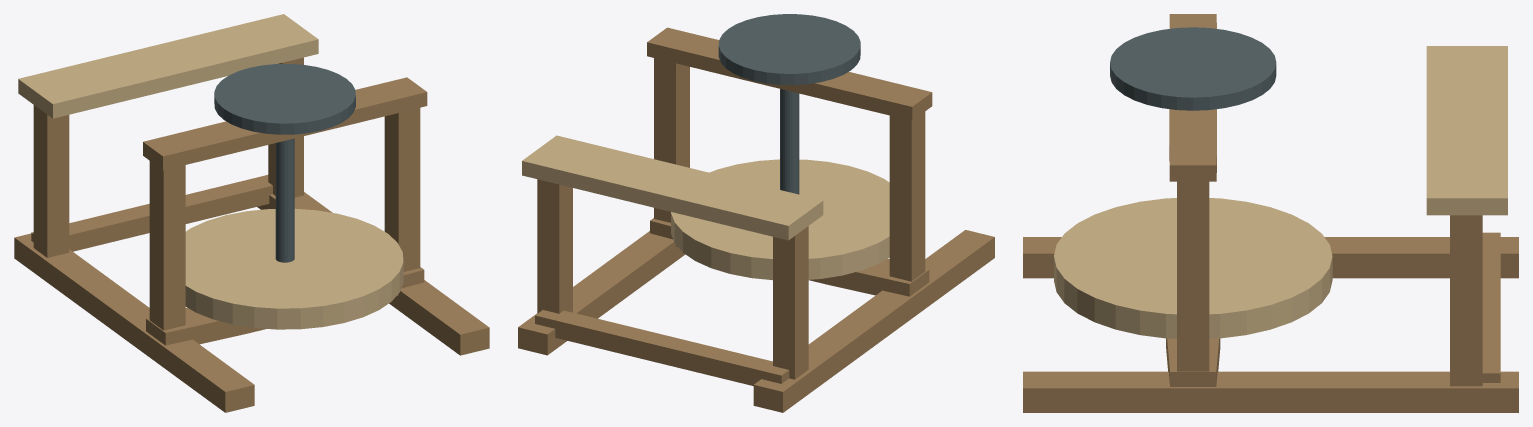
3 renders of one model, left to right at view 1: azimuth 30°, elevation 25°; view 2: azimuth 150°, elevation 25°; view 3: azimuth 270°, elevation 25°, orthographic. The views are drawn at different scales.
Parts seen in each view (by area): view 1: WholeLowSolidFootFlywheel, WholeRearSeat, LeftWholeGroundRail, WholeHighWorkDisk, WholeUpperBoredCrossSupport, LeftWholeWheelSupportPost, RightWholeWheelSupportPost, LeftWholeRearSeatPost, WholeRearLowStretcher, RightWholeGroundRail, WholeFixedVerticalShaft, WholeLowerBoredCrossSupport (+1 smaller); view 2: WholeLowSolidFootFlywheel, WholeRearSeat, LeftWholeGroundRail, WholeHighWorkDisk, WholeRearLowStretcher, WholeUpperBoredCrossSupport, LeftWholeWheelSupportPost, RightWholeGroundRail, LeftWholeRearSeatPost, RightWholeRearSeatPost, RightWholeWheelSupportPost, WholeLowerBoredCrossSupport (+1 smaller); view 3: WholeLowSolidFootFlywheel, RightWholeGroundRail, WholeRearSeat, WholeHighWorkDisk, LeftWholeGroundRail, RightWholeWheelSupportPost, RightWholeRearSeatPost, WholeUpperBoredCrossSupport, WholeRearLowStretcher, WholeLowerBoredCrossSupport.
Part boxes in pixels (x1,y1,x2,y2): WholeLowSolidFootFlywheel: (185, 208, 403, 329); WholeRearSeat: (18, 14, 318, 118); LeftWholeGroundRail: (14, 233, 254, 412); WholeHighWorkDisk: (214, 64, 355, 134); WholeUpperBoredCrossSupport: (143, 77, 427, 170); LeftWholeWheelSupportPost: (149, 161, 185, 330); RightWholeWheelSupportPost: (384, 108, 420, 271); LeftWholeRearSeatPost: (33, 105, 69, 257); WholeRearLowStretcher: (31, 175, 272, 251); RightWholeGroundRail: (257, 192, 489, 355); WholeFixedVerticalShaft: (275, 138, 294, 262); WholeLowerBoredCrossSupport: (146, 267, 424, 345); WholeLowSolidFootFlywheel: (671, 159, 889, 280); WholeRearSeat: (522, 135, 823, 240); LeftWholeGroundRail: (753, 230, 994, 412); WholeHighWorkDisk: (718, 14, 860, 85); WholeRearLowStretcher: (535, 310, 789, 385); WholeUpperBoredCrossSupport: (647, 27, 932, 120); LeftWholeWheelSupportPost: (889, 111, 925, 281); RightWholeGroundRail: (518, 231, 685, 355); LeftWholeRearSeatPost: (773, 226, 808, 379); RightWholeRearSeatPost: (537, 179, 572, 313); RightWholeWheelSupportPost: (654, 58, 689, 222); WholeLowerBoredCrossSupport: (650, 218, 929, 296); WholeLowSolidFootFlywheel: (1054, 198, 1332, 338); RightWholeGroundRail: (1023, 371, 1518, 412); WholeRearSeat: (1426, 46, 1507, 215); WholeHighWorkDisk: (1110, 27, 1276, 110); LeftWholeGroundRail: (1023, 237, 1518, 278); RightWholeWheelSupportPost: (1177, 181, 1209, 371); RightWholeRearSeatPost: (1450, 215, 1482, 386); WholeUpperBoredCrossSupport: (1169, 14, 1216, 181); WholeRearLowStretcher: (1482, 232, 1500, 382); WholeLowerBoredCrossSupport: (1166, 338, 1220, 386).
Bounding box in the file's own units: 0.996 × 0.838 × 1.37.
